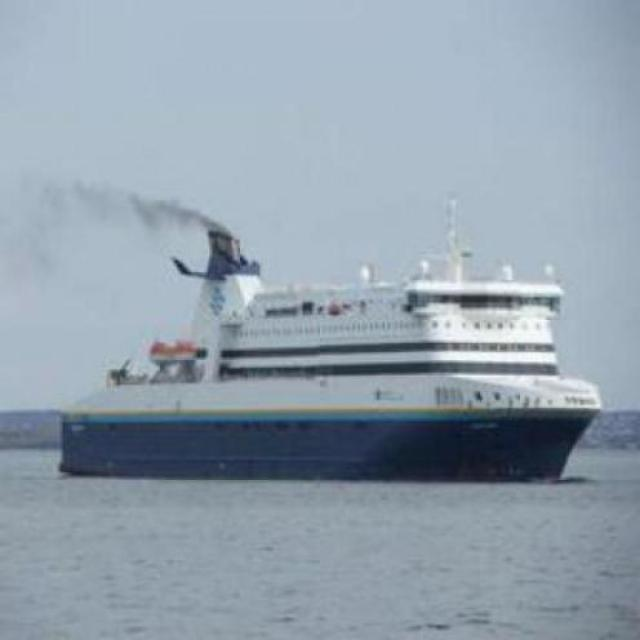boat: (40, 236, 600, 488)
